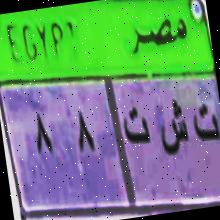8: (69, 104, 99, 166), (30, 108, 54, 160)
sheen: (154, 96, 192, 162)
taa: (118, 102, 153, 156), (189, 98, 220, 153)
